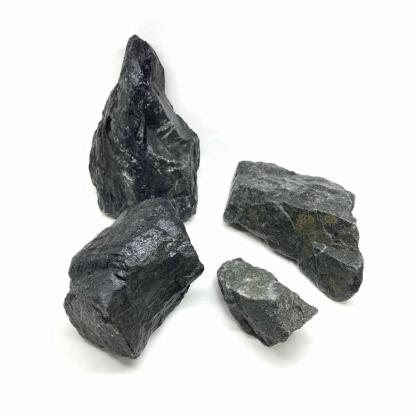Igneous_Basalt: (74, 29, 216, 220), (222, 154, 394, 302), (55, 191, 203, 363), (206, 250, 321, 351)
